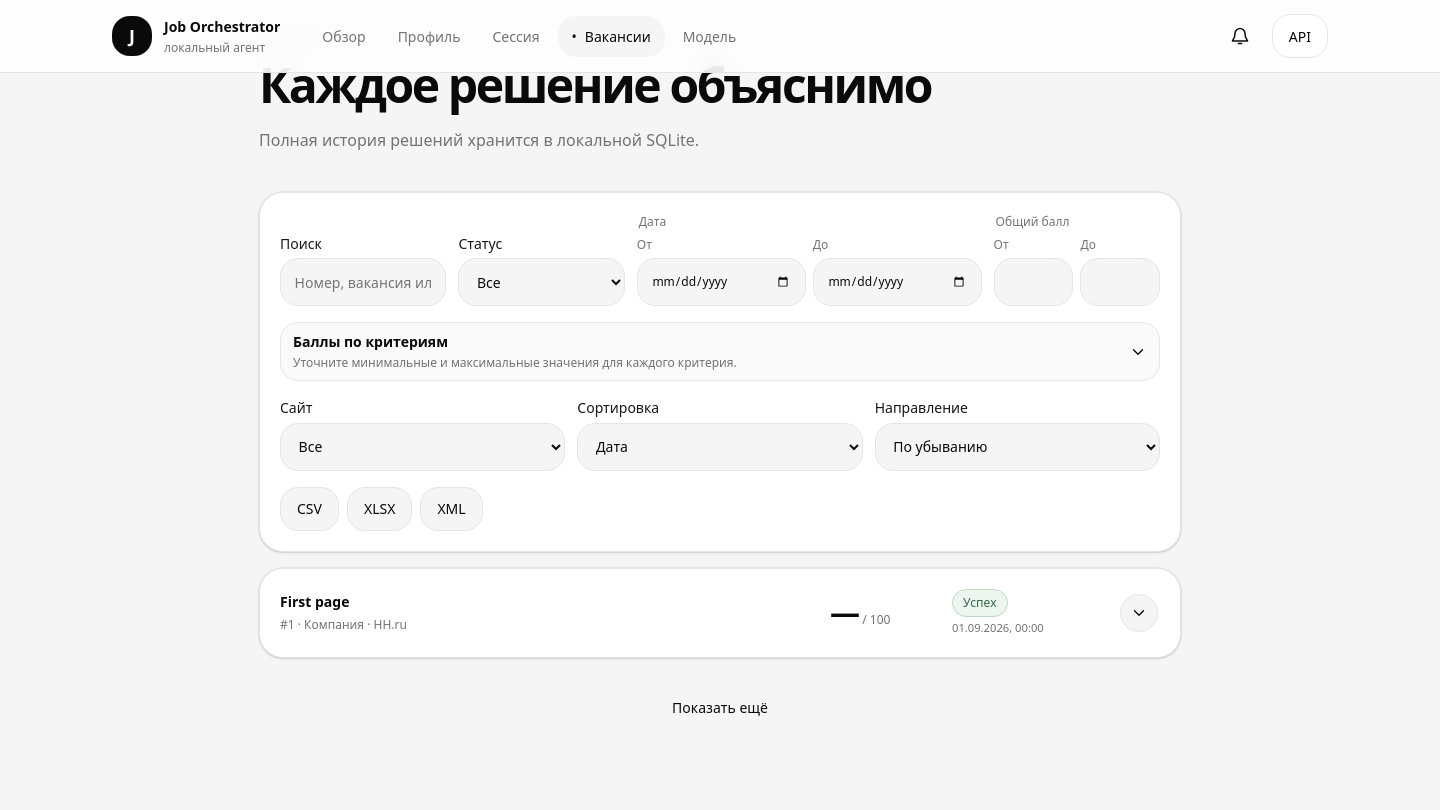
Test case: sorts vacancies by a criterion and resets loaded pagination
This screenshot has width=1440, height=810.
(page scrolled)
Step 1. Click the button "Показать ещё" → (720, 708), box [259, 686, 1181, 730]
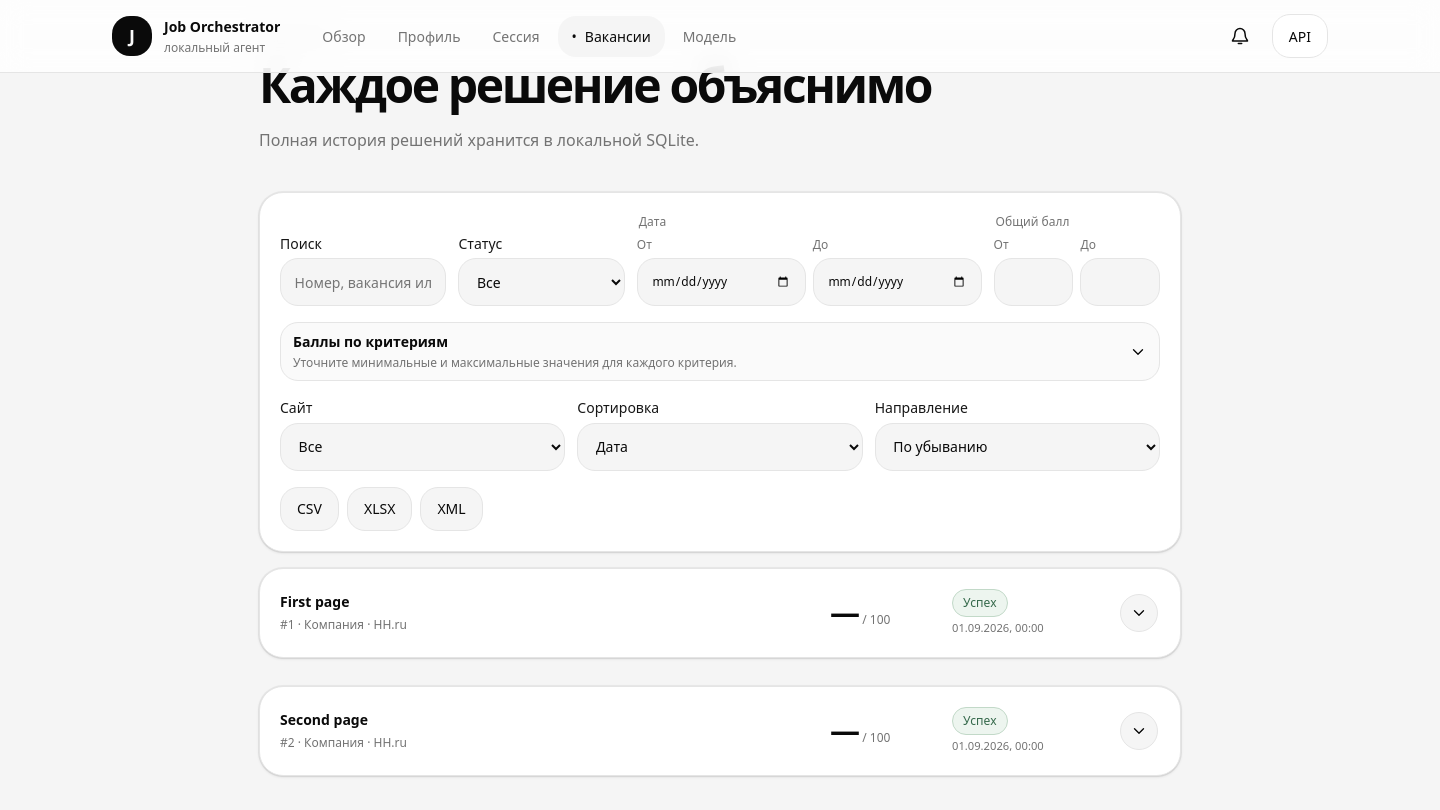
Now the text "Second page" is shown, box [280, 710, 368, 729]
Step 2. Select "Задачи" in the dropdown labelled "Сортировка" → (720, 447), box [577, 423, 863, 471]
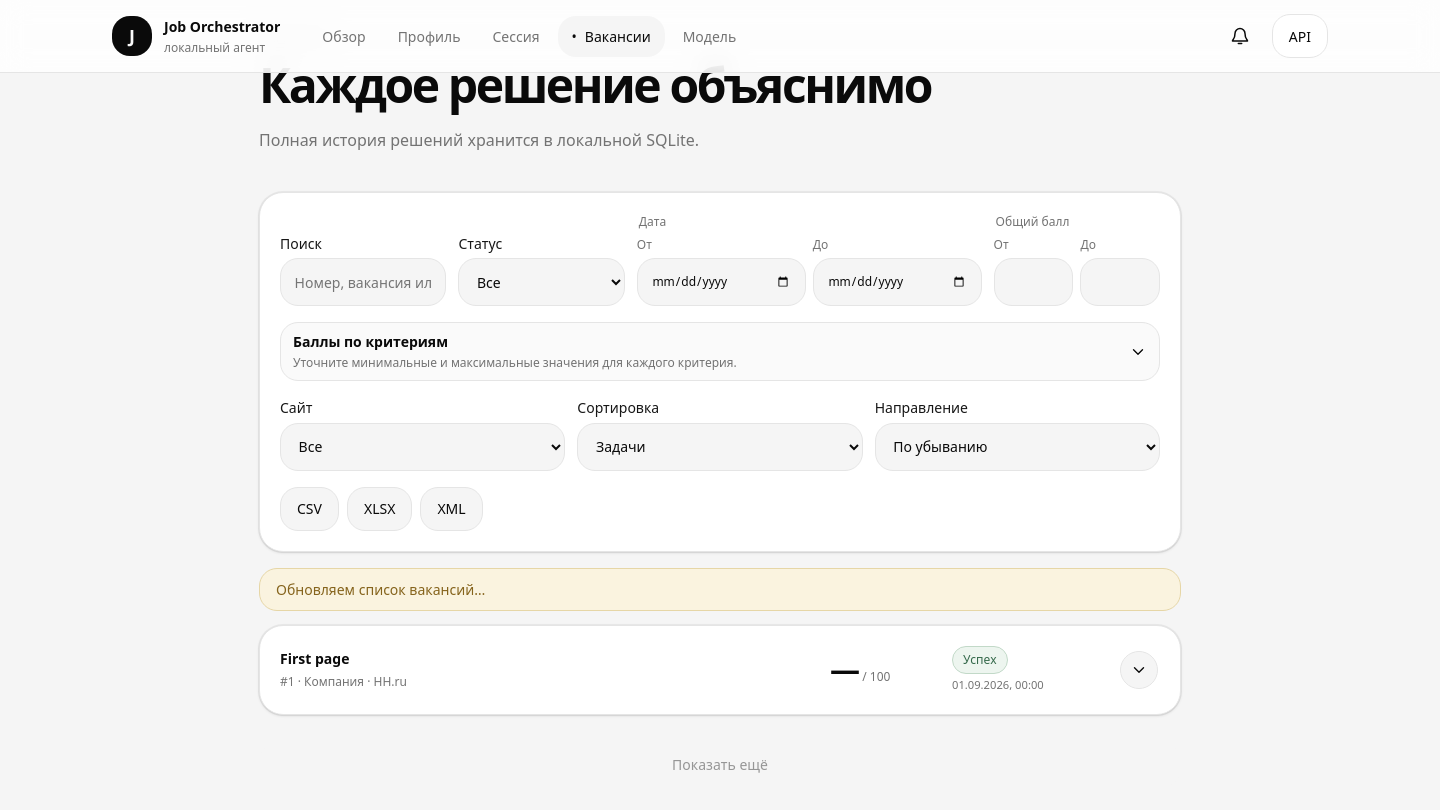
Step 3. Select "По возрастанию" in the dropdown labelled "Направление" → (1017, 447), box [875, 423, 1160, 471]
(page scrolled)
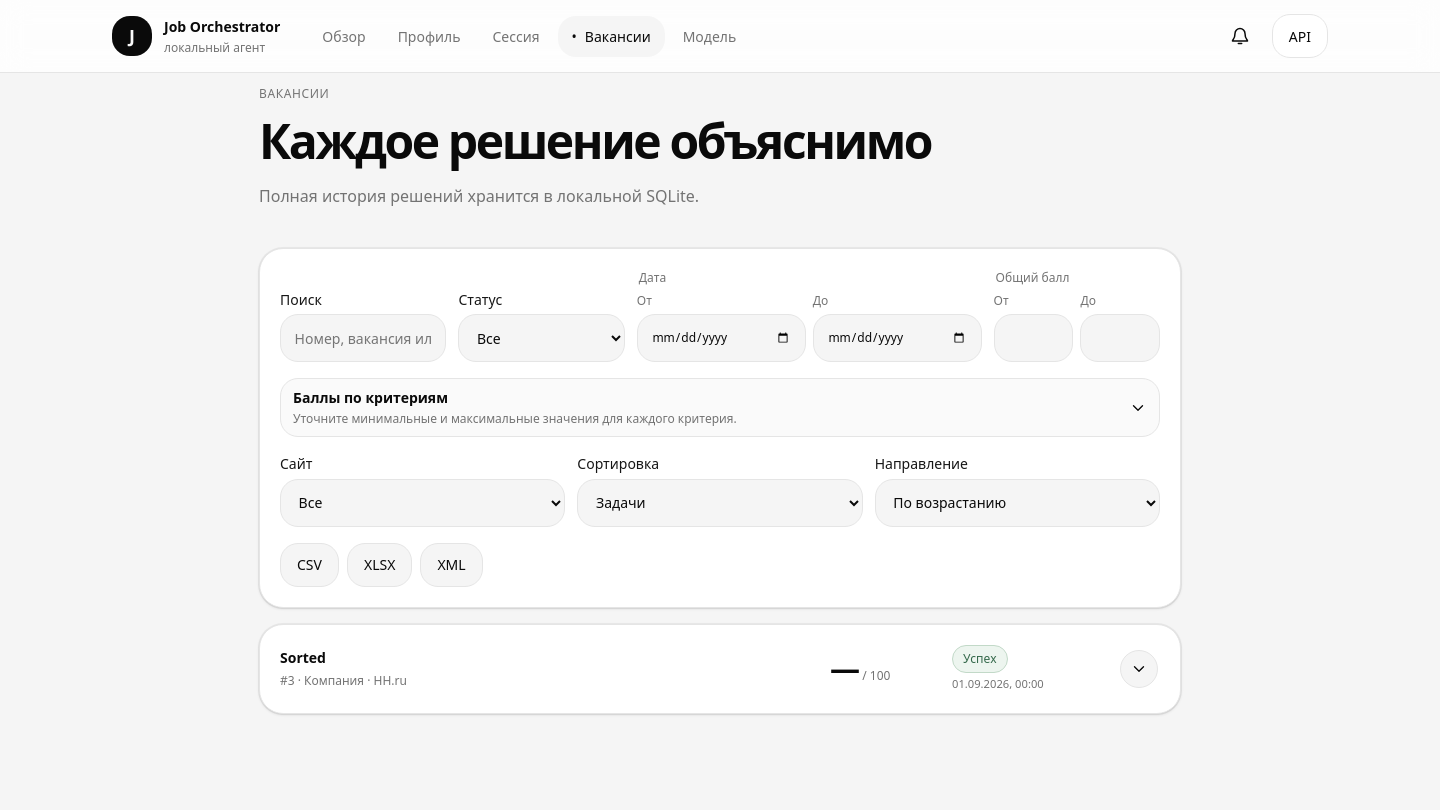
Expected: the heading "Second page" is not shown
Now the text "Sorted" is shown, box [280, 648, 326, 667]
Now the heading "First page" is gone
